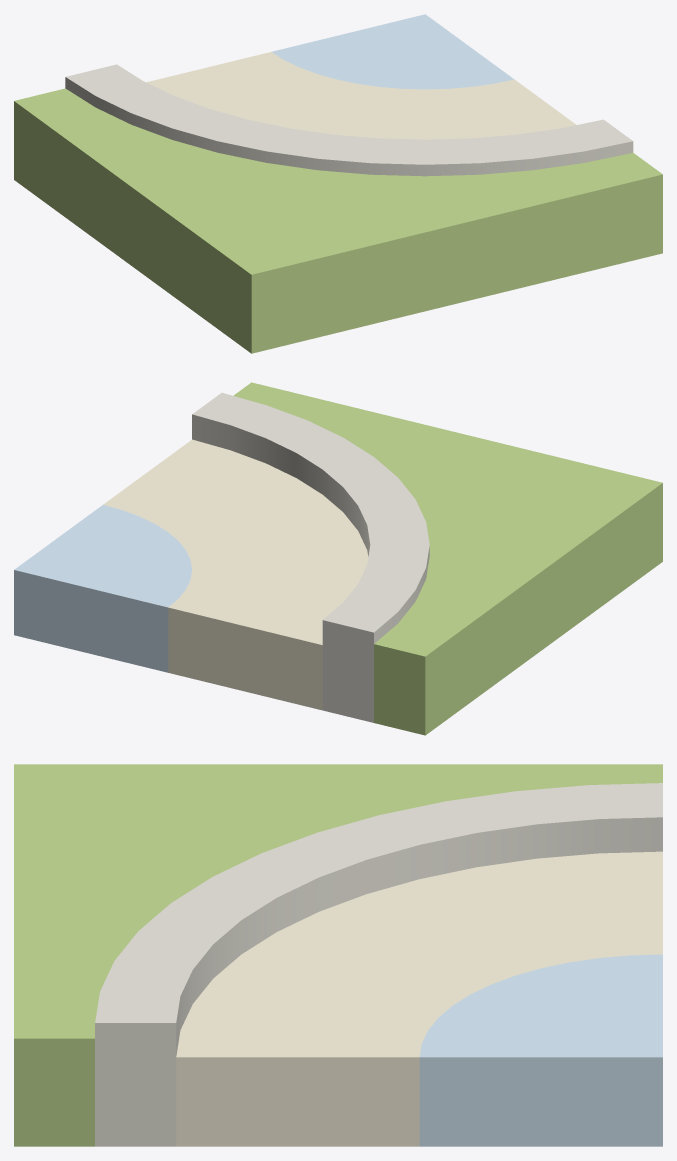
The model's file is roadTile_284.gltf.
The picture shows the model from 3 angles, top to bottom: view 1: azimuth 30°, elevation 25°; view 2: azimuth 150°, elevation 25°; view 3: azimuth 270°, elevation 25°; orthographic projection. The views are drawn at different scales.
Parts seen in each view (by area): view 1: roadTile_284; view 2: roadTile_284; view 3: roadTile_284.
Part boxes in pixels (x1,y1,x2,y2): roadTile_284: [14, 14, 662, 353]; roadTile_284: [14, 382, 662, 735]; roadTile_284: [14, 764, 662, 1146].
Size of the model in its own units: 3 by 0.63 by 3.
